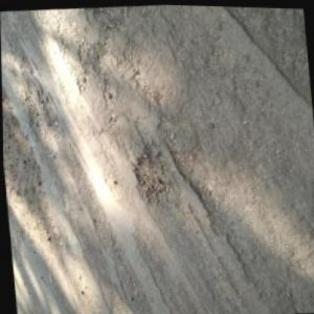Hueco: (129, 140, 170, 204)
